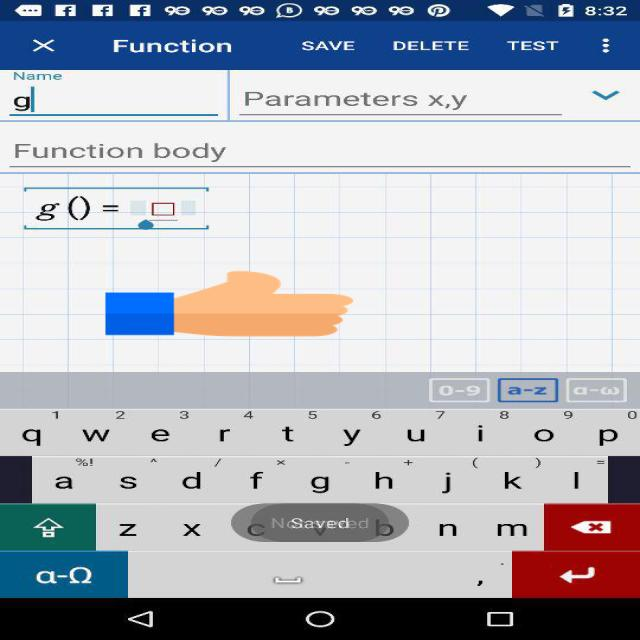privacy zuckering: (106, 269, 353, 338)
